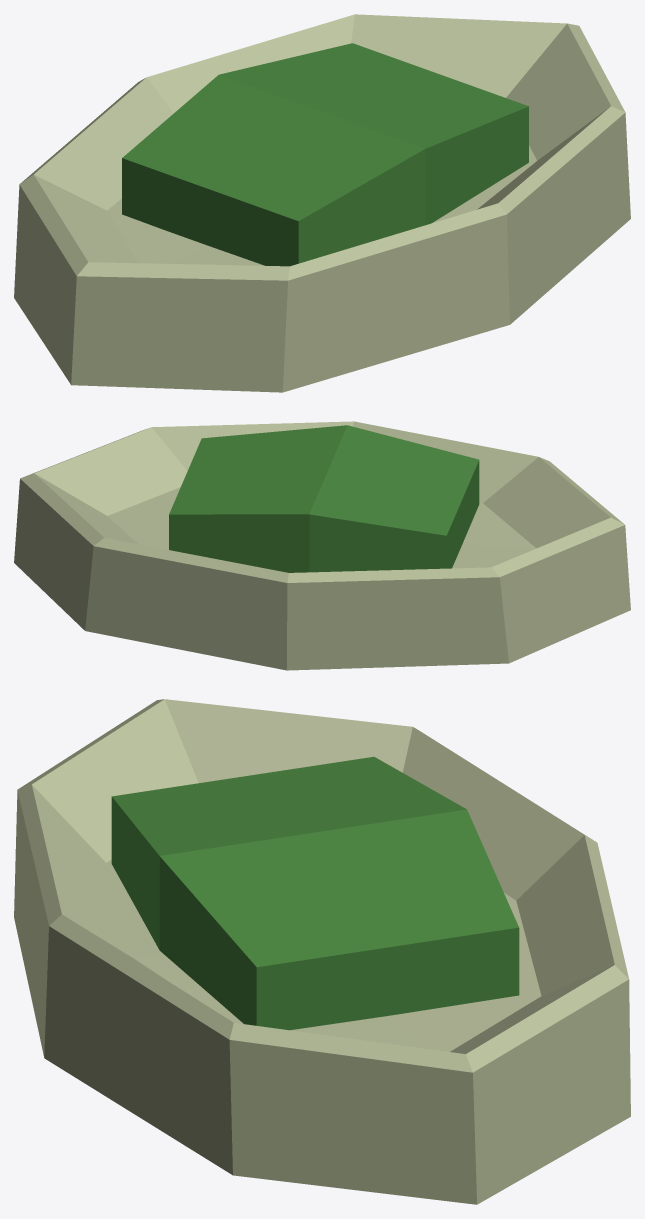
The model's file is Kitchen_2_Sponge.fbx.
3 views of the same model, one above another, from view 1: azimuth 30°, elevation 25°; view 2: azimuth 150°, elevation 25°; view 3: azimuth 270°, elevation 25° (orthographic). The views are drawn at different scales.
Visible parts, largest first — view 1: Kitchen_2_Sponge; view 2: Kitchen_2_Sponge; view 3: Kitchen_2_Sponge.
Part boxes in pixels (x1,y1,x2,y2): Kitchen_2_Sponge: (14,14,630,392); Kitchen_2_Sponge: (14,421,630,670); Kitchen_2_Sponge: (14,699,630,1204).
Bounding box in the file's own units: 22.28 × 4.95 × 15.3.
